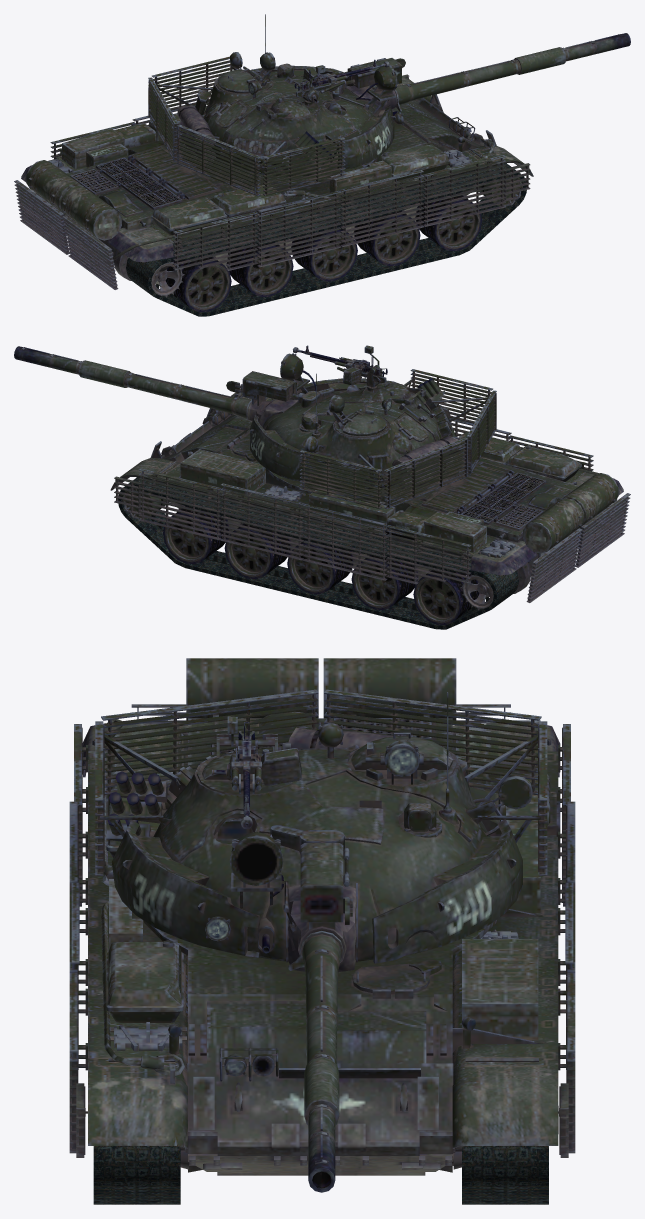
The picture shows the model from 3 angles, top to bottom: view 1: azimuth 30°, elevation 25°; view 2: azimuth 150°, elevation 25°; view 3: azimuth 270°, elevation 25°; orthographic projection. The views are drawn at different scales.
Parts seen in each view (by area): view 1: t62md_t62md_0, track_track_0; view 2: t62md_t62md_0, track_track_0; view 3: t62md_t62md_0, track_track_0.
Boxes of the visible parts, <box> form: t62md_t62md_0: <box>14,14,630,312</box>; track_track_0: <box>36,163,526,316</box>; t62md_t62md_0: <box>14,345,630,625</box>; track_track_0: <box>118,477,608,629</box>; t62md_t62md_0: <box>69,658,575,1192</box>; track_track_0: <box>93,1146,548,1204</box>.
Bounding box in the file's own units: 8.32 × 2.82 × 3.2.
Materials: 2 (2 with a texture image).
